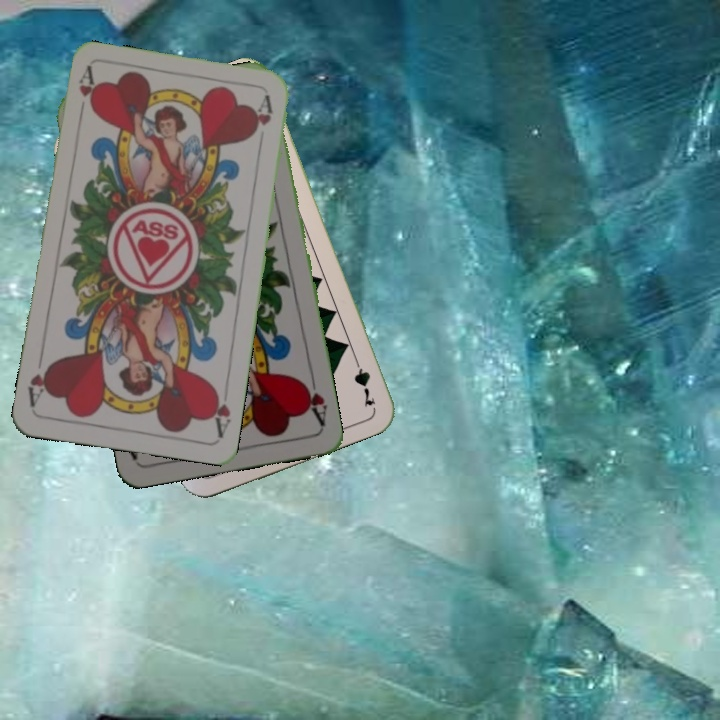G7: (349, 351, 378, 409)
HA: (298, 370, 330, 429), (206, 380, 233, 439), (74, 65, 97, 124)
